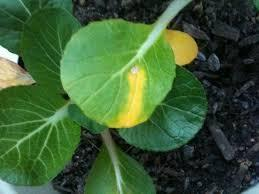Bok-Choy-Diseased: (62, 17, 182, 132)
